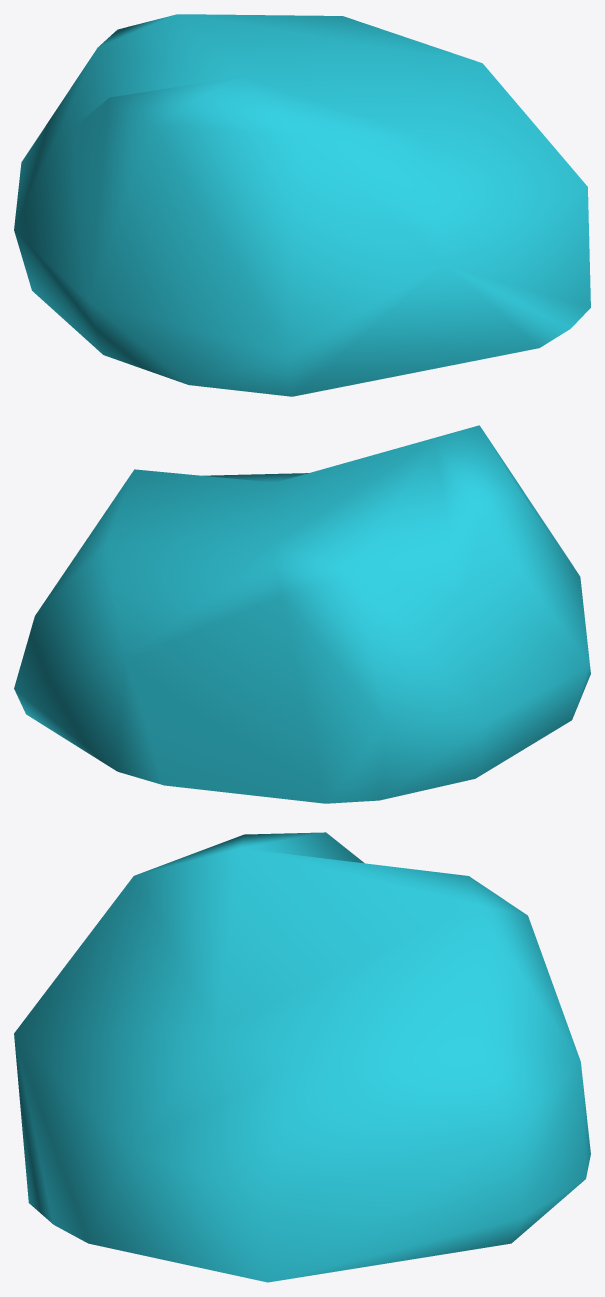
The model's file is soft_beanbag_1.fbx.
The picture shows the model from 3 angles, top to bottom: view 1: azimuth 30°, elevation 25°; view 2: azimuth 150°, elevation 25°; view 3: azimuth 270°, elevation 25°; orthographic projection. The views are drawn at different scales.
Visible parts, largest first — view 1: soft_beanbag_1; view 2: soft_beanbag_1; view 3: soft_beanbag_1.
Part boxes in pixels (x1,y1,x2,y2): soft_beanbag_1: (14, 14, 590, 396); soft_beanbag_1: (14, 425, 590, 803); soft_beanbag_1: (14, 832, 590, 1282).
Bounding box in the file's own units: 5.52 × 2.55 × 5.23.
